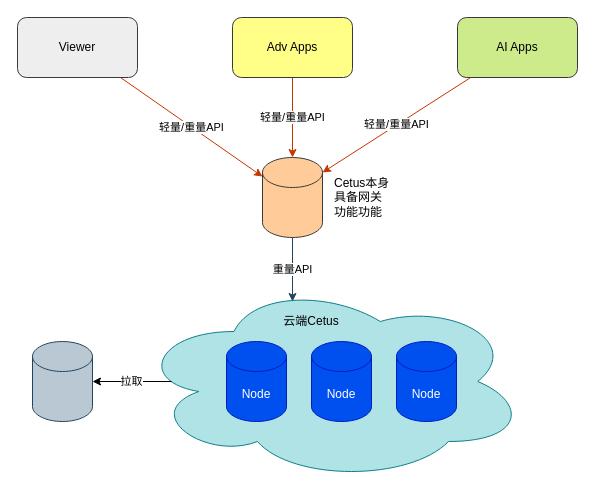
This 595x499 diagram has some shape labels left out. The box of each missing label's shape, as (x1, y1, x2, y2) in pixels:
三方数据源: (32, 340, 92, 422)
边缘 Cetus: (262, 156, 322, 238)
